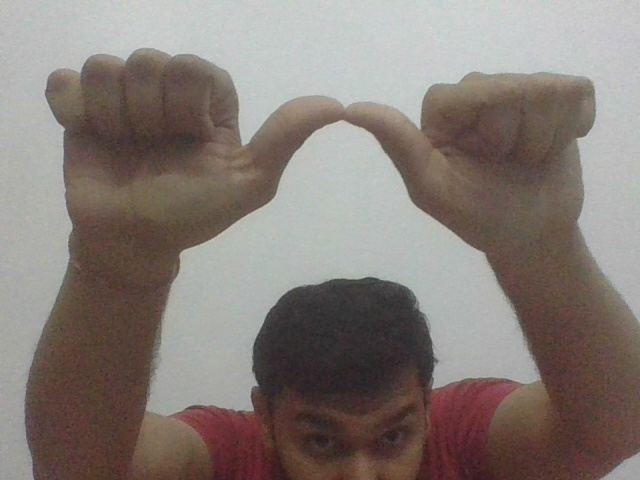A: (33, 49, 630, 236)
